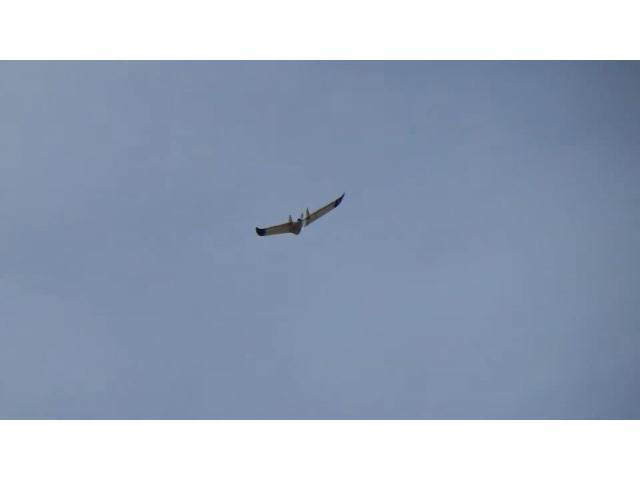Anti-Drone: (256, 194, 344, 238)
